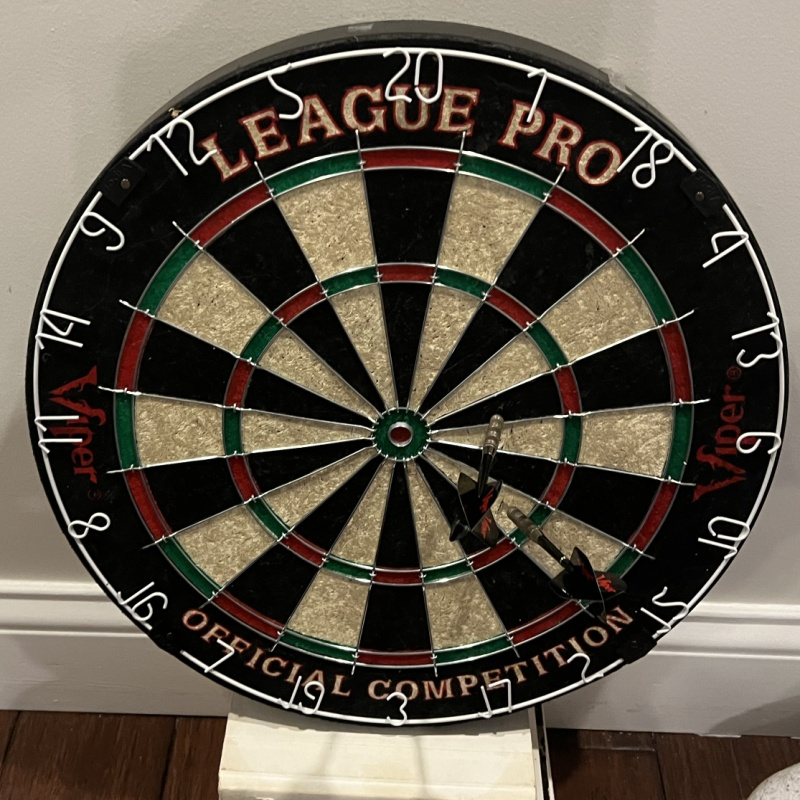dart: (494, 498, 521, 524), (489, 408, 507, 432)
eleven: (35, 413, 84, 453)
six: (736, 430, 781, 455)
three: (379, 692, 409, 728)
twenty: (379, 43, 445, 105)
